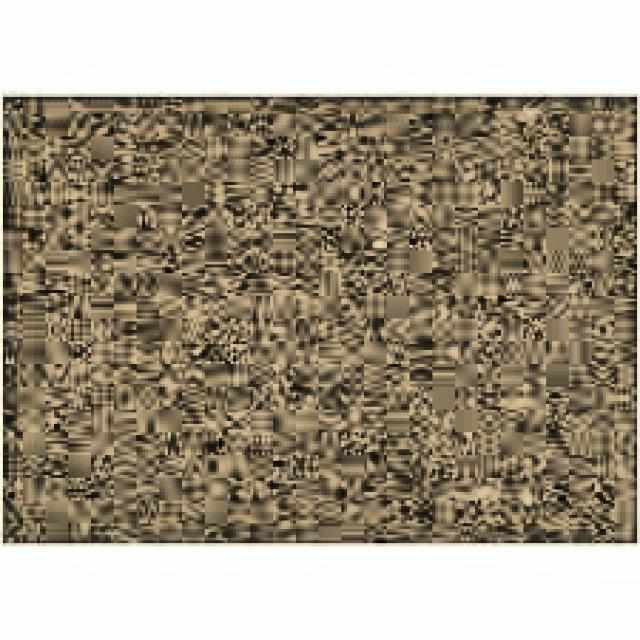cardboard: (0, 94, 637, 544)
